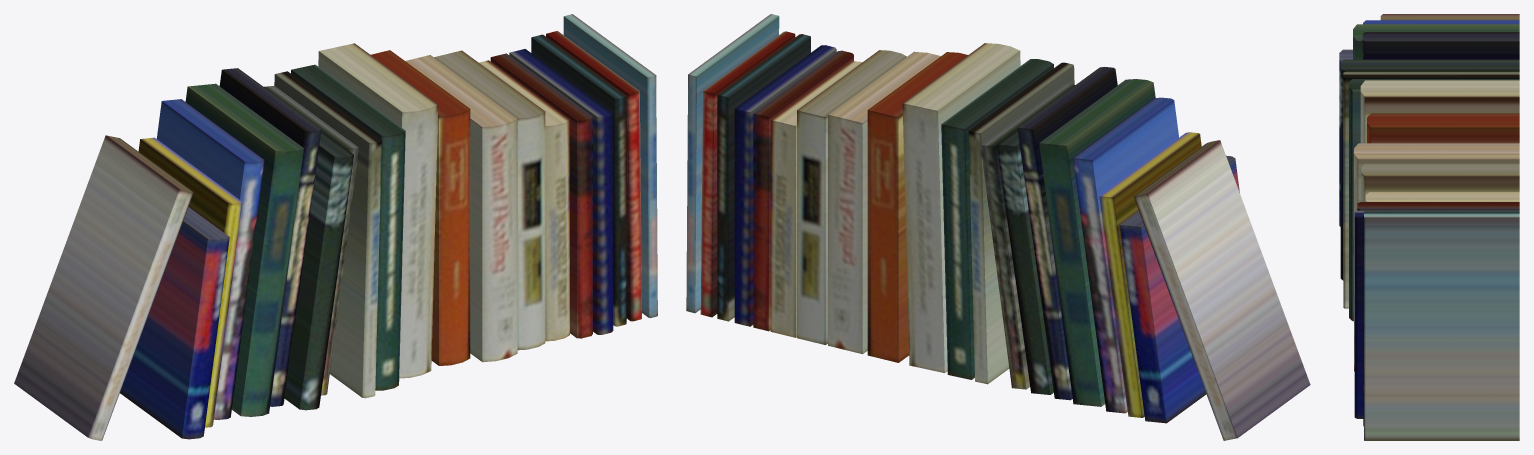
File: Books 3.FBX
3 views of the same model, side by side, from view 1: azimuth 30°, elevation 25°; view 2: azimuth 150°, elevation 25°; view 3: azimuth 270°, elevation 25° (orthographic). The views are drawn at different scales.
Visible parts, largest first — view 1: Books1; view 2: Books1; view 3: Books1.
Boxes of the visible parts, box(x1,y1,x2,y2) form: Books1: box(14, 14, 657, 440); Books1: box(686, 14, 1310, 440); Books1: box(1339, 14, 1519, 440).
Size of the model in its own units: 63.14 by 19.03 by 29.18.
